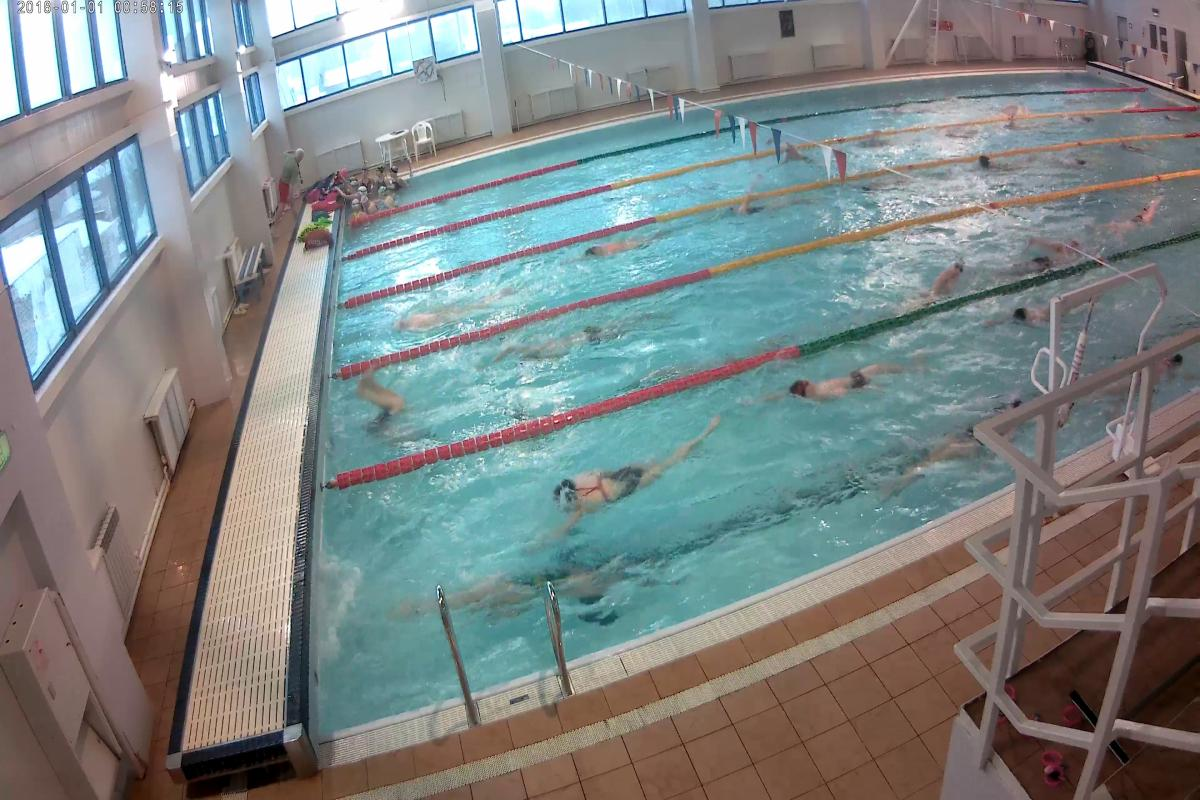swimmer: (558, 430, 721, 528), (800, 343, 952, 395), (468, 556, 666, 594), (399, 291, 513, 322), (521, 330, 656, 353), (1010, 231, 1084, 270), (1097, 192, 1168, 230), (578, 226, 660, 255), (927, 256, 971, 304), (738, 191, 814, 216), (997, 300, 1058, 328), (872, 168, 930, 196), (974, 154, 1042, 175)
